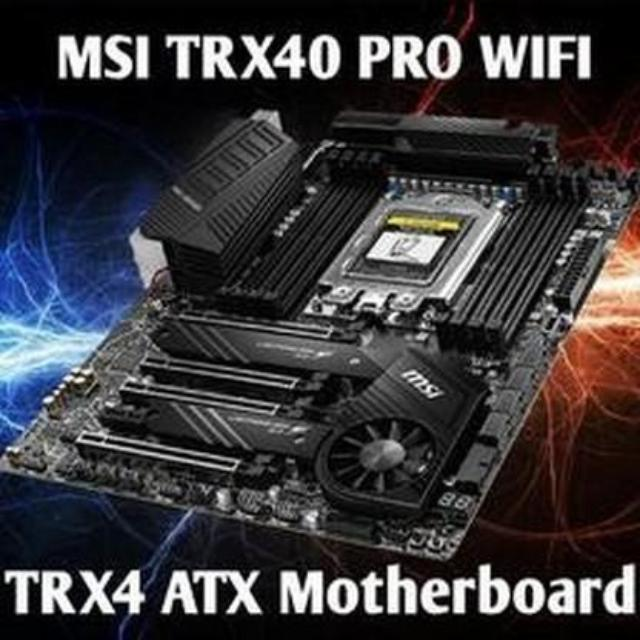Mainboard: (0, 105, 640, 566)
